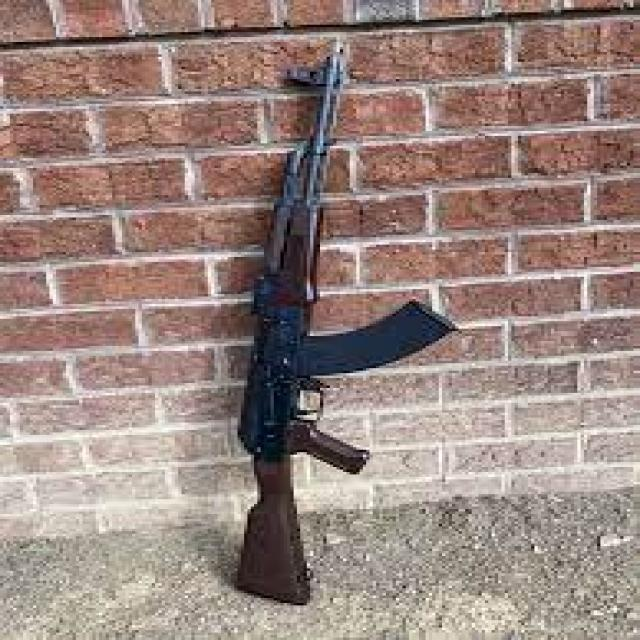weapon: (231, 56, 457, 606)
